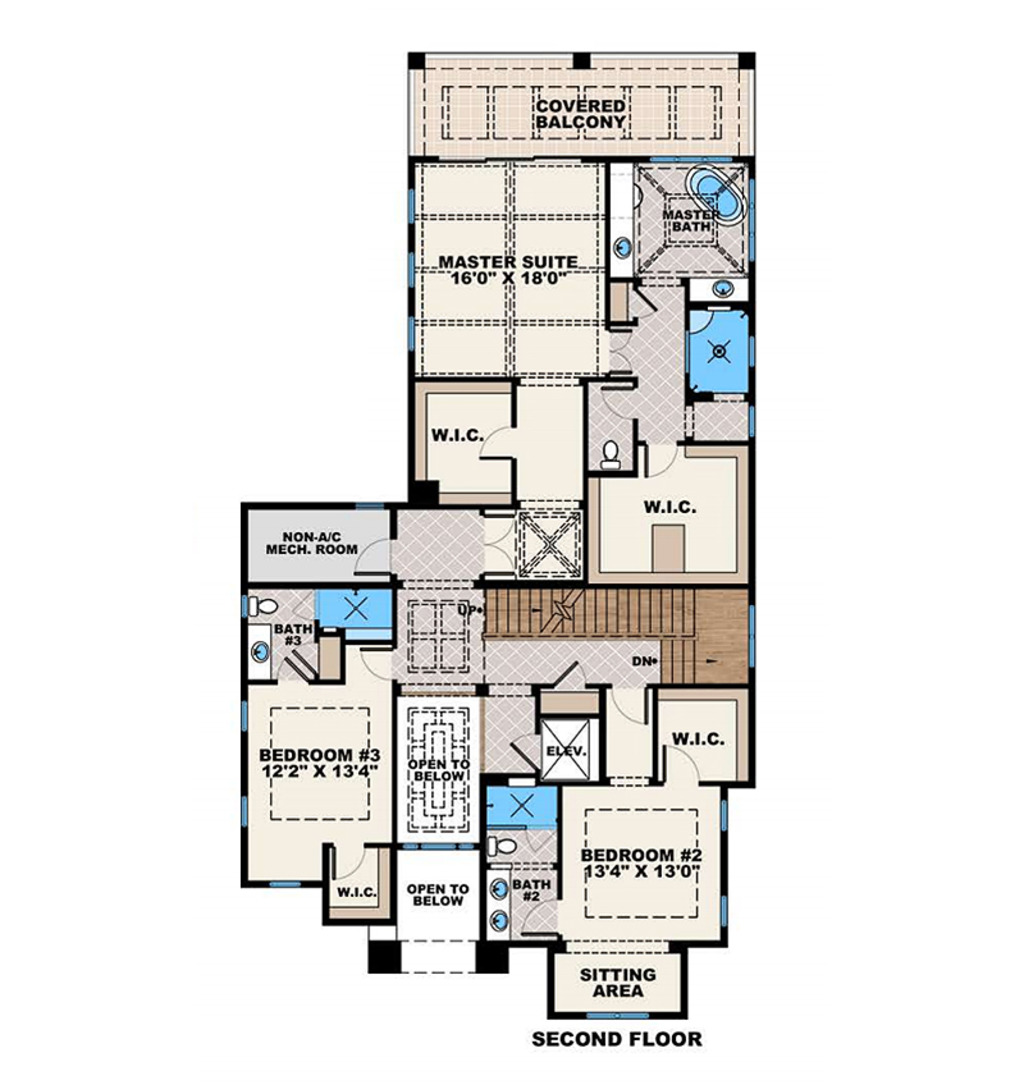door: (482, 510, 519, 587), (655, 738, 707, 792), (324, 836, 367, 882), (347, 537, 397, 576), (608, 683, 651, 728), (518, 896, 565, 937), (638, 440, 682, 481), (474, 422, 515, 463), (605, 325, 636, 377), (596, 381, 636, 418), (552, 657, 586, 691)
large_sink: (592, 431, 624, 477), (486, 831, 518, 859), (247, 590, 278, 615)
small_sink: (687, 275, 755, 313), (485, 866, 512, 941), (350, 637, 396, 680), (609, 221, 639, 280), (244, 621, 271, 682)
stairs: (484, 580, 705, 683)
windows: (579, 1007, 654, 1023)
